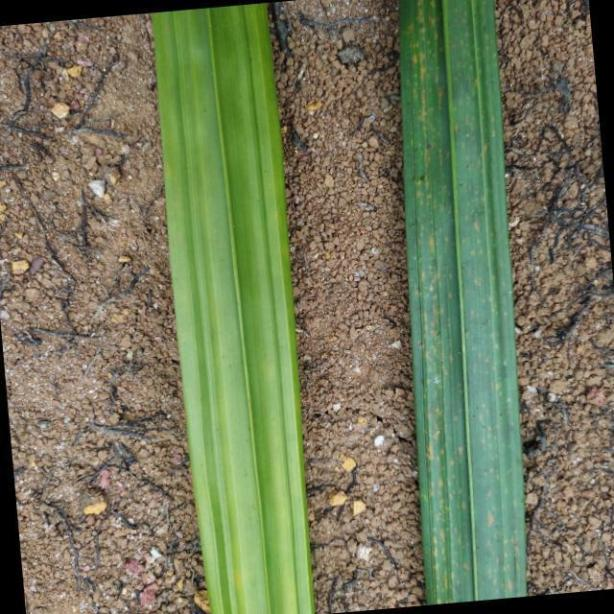nitrogen: (142, 0, 310, 614), (390, 0, 534, 614)
